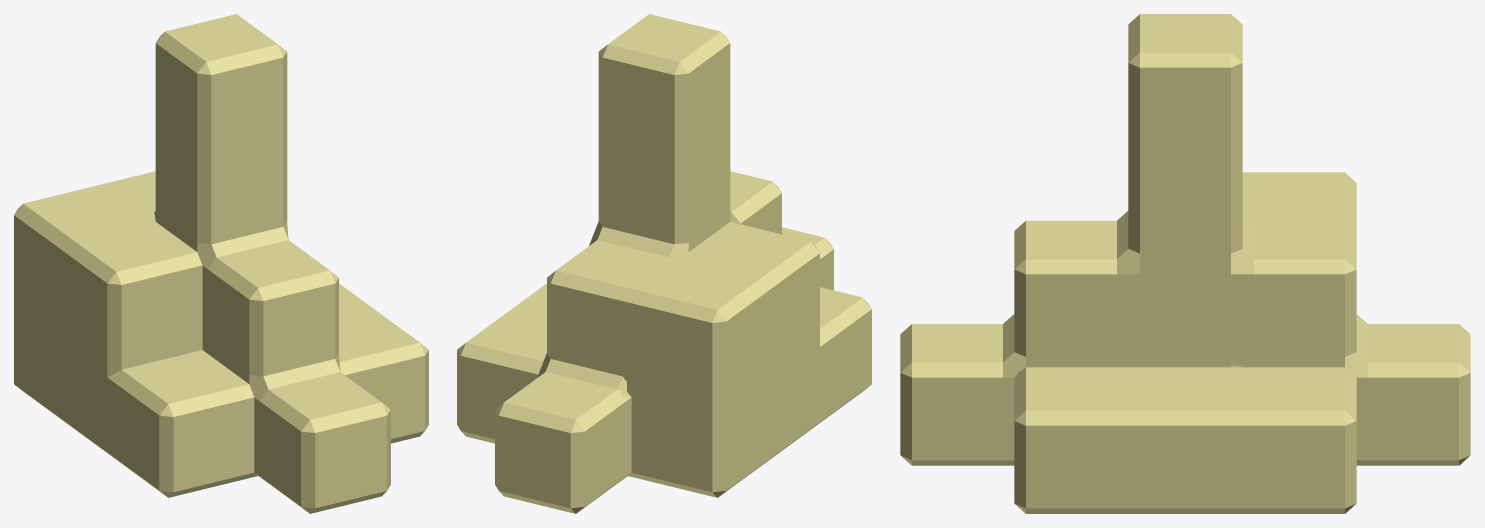
The model's file is placeholders2.fbx.
The picture shows the model from 3 angles, left to right: view 1: azimuth 30°, elevation 25°; view 2: azimuth 150°, elevation 25°; view 3: azimuth 270°, elevation 25°; orthographic projection. The views are drawn at different scales.
Visible parts, largest first — view 1: cube_stairs, cube_wide, cube_fateAss, cube_pillar, cube_L; view 2: cube_fateAss, cube_wide, cube_L, cube_stairs, cube_pillar; view 3: cube_stairs, cube_wide, cube_pillar, cube_L, cube_fateAss.
Boxes of the visible parts, left/top/right/bottom form: cube_stairs: left=113, top=137, right=390, bottom=513; cube_wide: left=14, top=283, right=428, bottom=497; cube_fateAss: left=14, top=171, right=202, bottom=432; cube_pillar: left=155, top=14, right=287, bottom=250; cube_L: left=155, top=138, right=287, bottom=251; cube_fateAss: left=547, top=222, right=819, bottom=496; cube_wide: left=457, top=283, right=871, bottom=497; cube_L: left=495, top=137, right=730, bottom=513; cube_stairs: left=506, top=138, right=833, bottom=504; cube_pillar: left=598, top=14, right=730, bottom=250; cube_stairs: left=900, top=168, right=1458, bottom=465; cube_wide: left=1014, top=367, right=1356, bottom=513; cube_pillar: left=1128, top=14, right=1242, bottom=367; cube_L: left=1128, top=166, right=1470, bottom=465; cube_fateAss: left=1141, top=172, right=1356, bottom=367.
Size of what is drawn, in the model's own units: 3 by 4 by 5.
